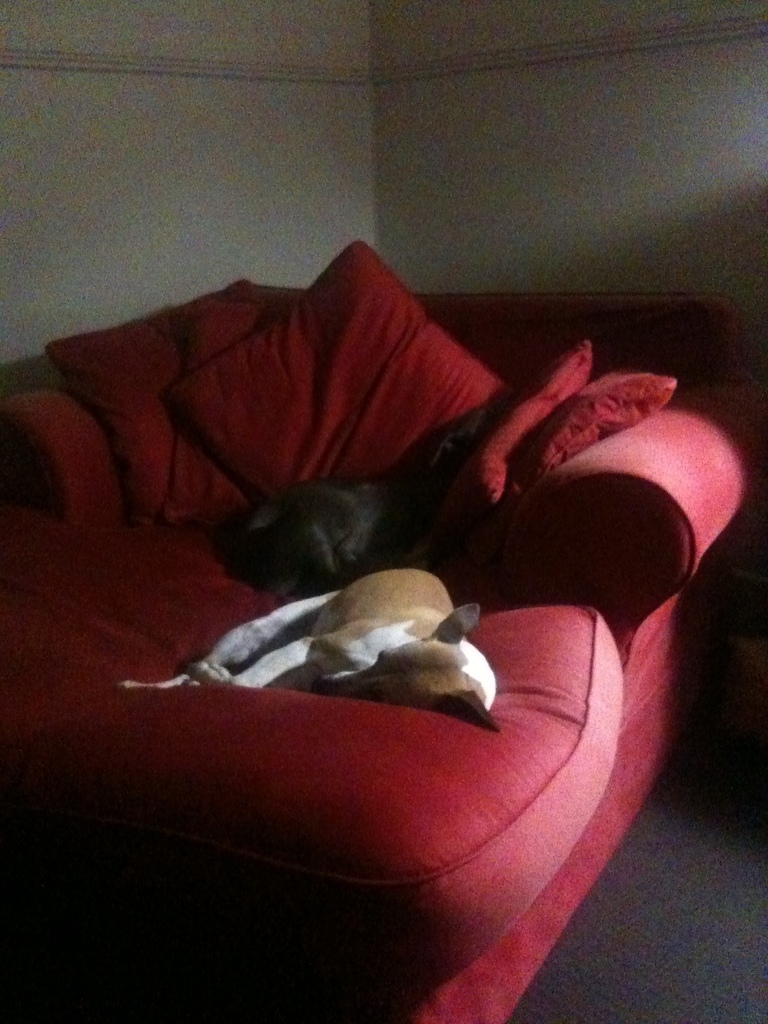Couch: (0, 157, 734, 996)
